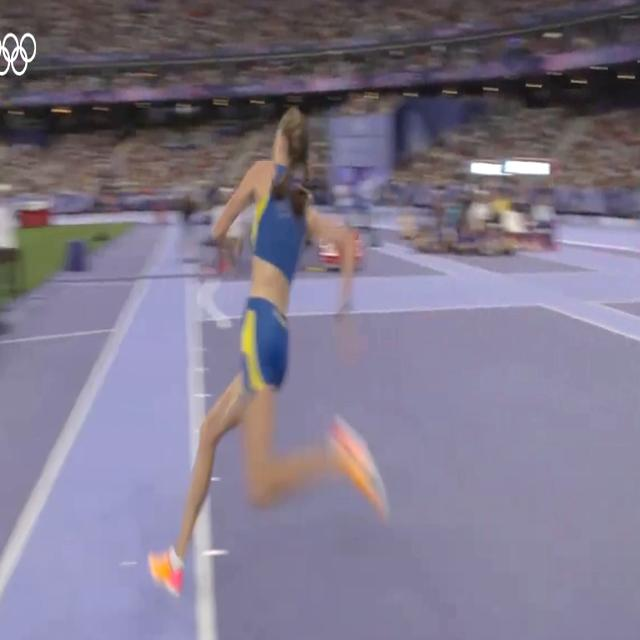run: (141, 103, 380, 602)
